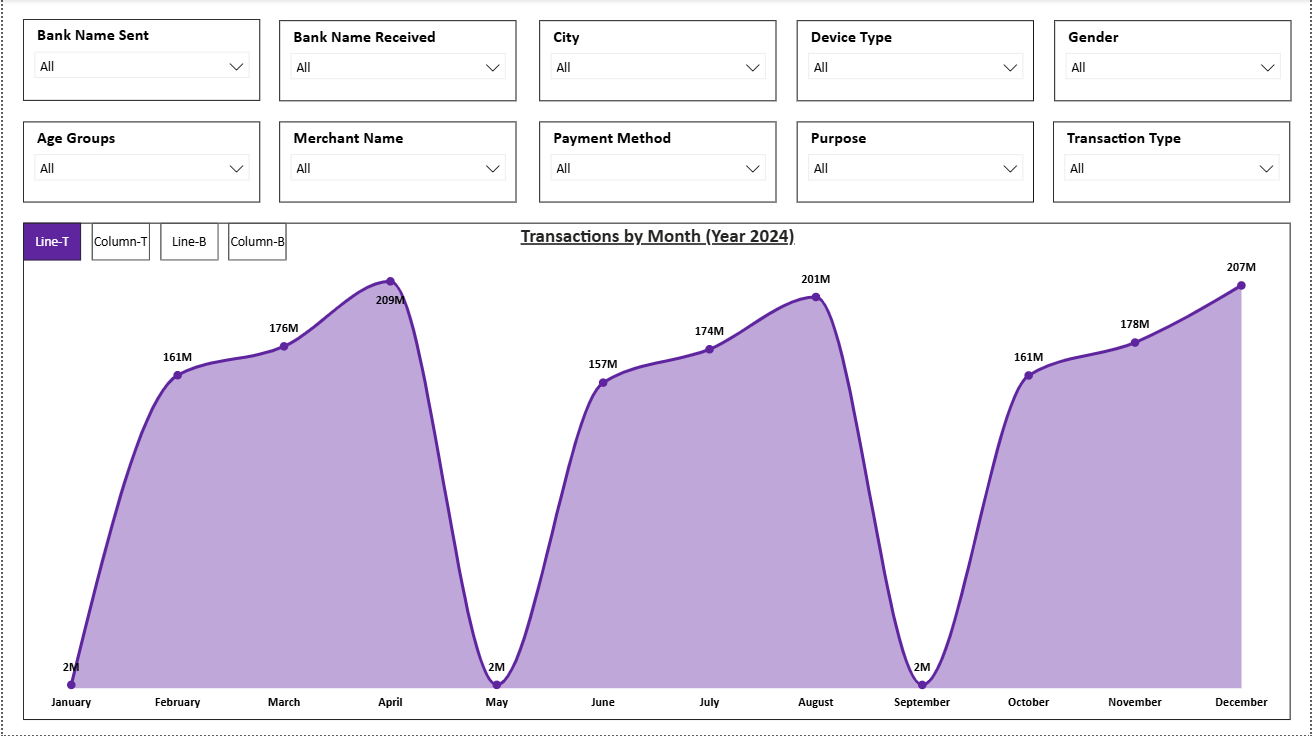

What the dashboard file says about the page in this screenshot:
{"tool":"powerbi","page":{"name":"Balance/Transacion overview","canvas":[1280,720],"ordinal":0},"visuals":[{"type":"slicer","fields":{"Values":["UPITransaction.BankNameSent"]},"box":[20,20,232,80],"z":0},{"type":"slicer","fields":{"Values":["UPITransaction.BankNameReceived"]},"box":[270.6,20.6,232,79.6],"z":1000},{"type":"slicer","fields":{"Values":["UPITransaction.City"]},"box":[524,20.6,232,79.6],"z":2000},{"type":"slicer","fields":{"Values":["UPITransaction.DeviceType"]},"box":[776,20.6,232,79.6],"z":3000},{"type":"slicer","fields":{"Values":["UPITransaction.Gender"]},"box":[1028,20.6,232,79.6],"z":4000},{"type":"slicer","fields":{"Values":["UPITransaction.Age Groups"]},"box":[19.2,119.4,232,79.6],"z":5000},{"type":"slicer","fields":{"Values":["UPITransaction.MerchantName"]},"box":[270.3,119.4,232,79.6],"z":6000},{"type":"slicer","fields":{"Values":["UPITransaction.PaymentMethod"]},"box":[524.2,119.4,232,79.6],"z":7000},{"type":"slicer","fields":{"Values":["UPITransaction.Purpose"]},"box":[776.7,119.4,232,79.6],"z":8000},{"type":"slicer","fields":{"Values":["UPITransaction.TransactionType"]},"box":[1027.8,119.4,232,79.6],"z":9000},{"type":"lineChart","title":"Transactions by Month (Year 2024)","fields":{"Category":["UPITransaction.TransactionDate.Variation.Date Hierarchy.Month"],"Y":["Sum(UPITransaction.Amount(INR))"]},"box":[19.6,218.9,1240,486.7],"z":10000},{"type":"bookmarkNavigator","box":[19.6,218.9,261.7,37.9],"z":15000}]}

Visuals, with their boxes in screenshot pixels (x1, y1, x2, y2), scaled from the page's 1280x720 canvas onto the 1312x736 screenshot:
slicer - UPITransaction.BankNameSent: Rect(20, 20, 258, 102)
slicer - UPITransaction.BankNameReceived: Rect(277, 21, 515, 102)
slicer - UPITransaction.City: Rect(537, 21, 775, 102)
slicer - UPITransaction.DeviceType: Rect(795, 21, 1033, 102)
slicer - UPITransaction.Gender: Rect(1054, 21, 1292, 102)
slicer - UPITransaction.Age Groups: Rect(20, 122, 257, 203)
slicer - UPITransaction.MerchantName: Rect(277, 122, 515, 203)
slicer - UPITransaction.PaymentMethod: Rect(537, 122, 775, 203)
slicer - UPITransaction.Purpose: Rect(796, 122, 1034, 203)
slicer - UPITransaction.TransactionType: Rect(1053, 122, 1291, 203)
"Transactions by Month (Year 2024)" lineChart: Rect(20, 224, 1291, 721)
bookmarkNavigator: Rect(20, 224, 288, 263)
